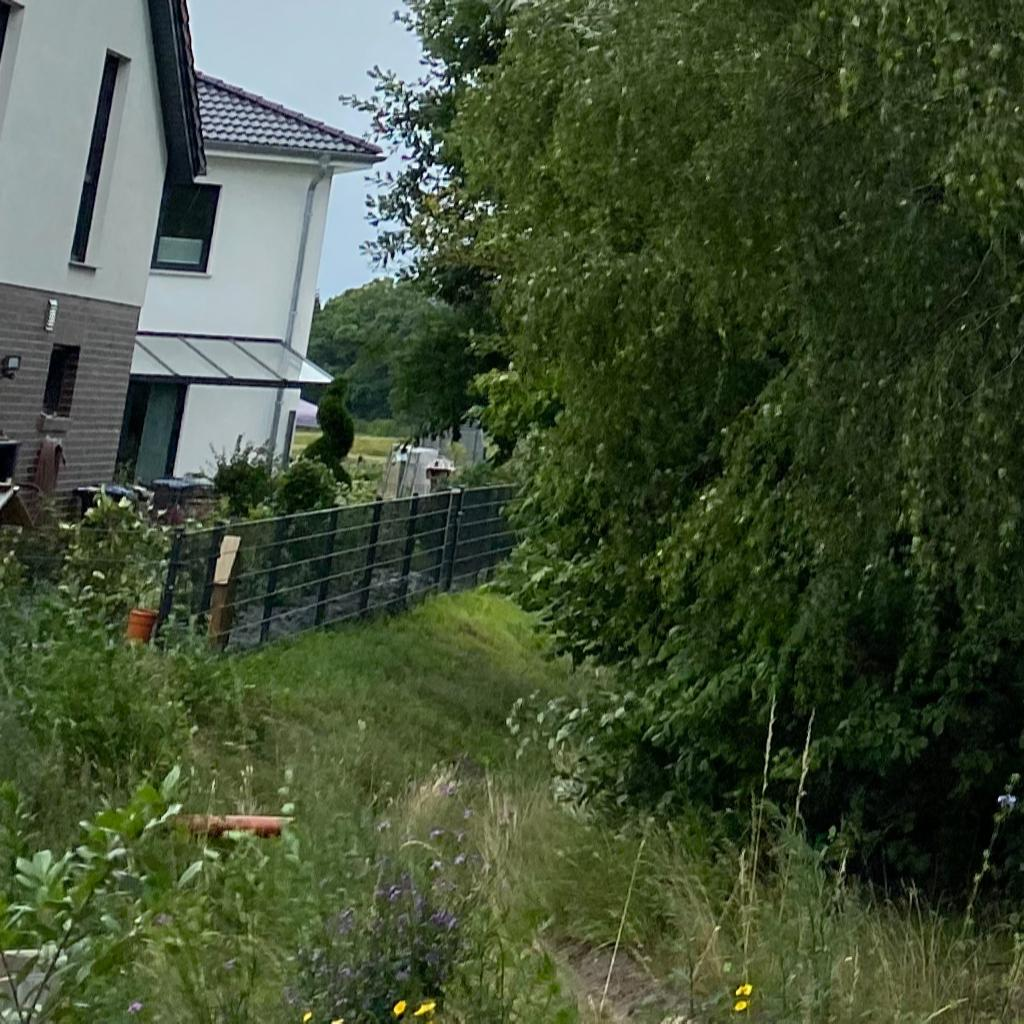tree: (337, 1, 1023, 938)
